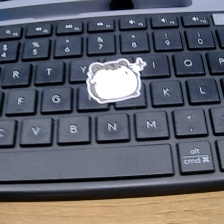mouse: (84, 56, 149, 105)
